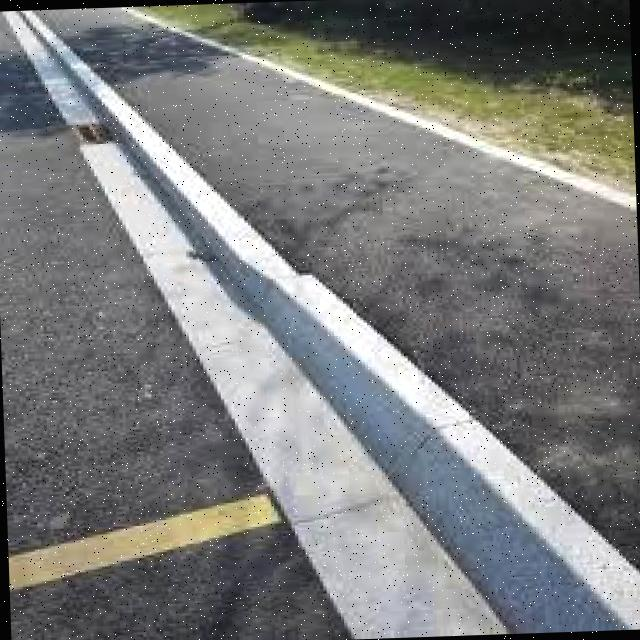curb: (191, 246, 481, 522), (335, 433, 640, 640), (23, 15, 169, 173), (121, 150, 266, 276)
